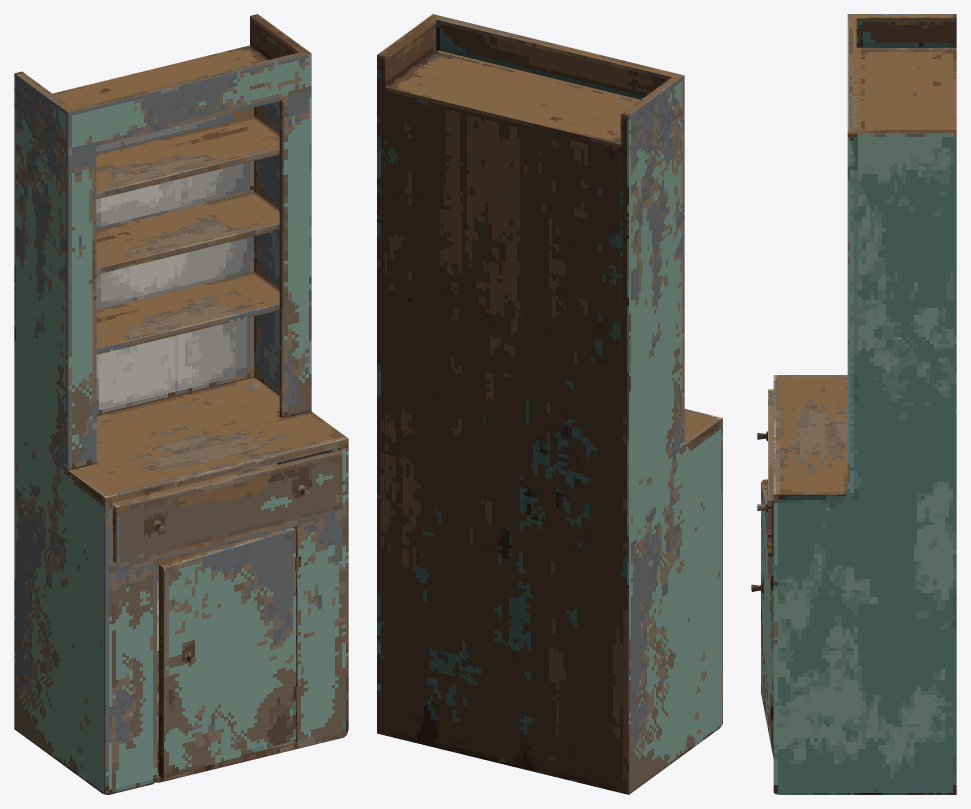
The model's file is wardrobe.glb.
The picture shows the model from 3 angles, left to right: view 1: azimuth 30°, elevation 25°; view 2: azimuth 150°, elevation 25°; view 3: azimuth 270°, elevation 25°; orthographic projection. The views are drawn at different scales.
Parts seen in each view (by area): view 1: mesh_q; view 2: mesh_q; view 3: mesh_q.
Boxes of the visible parts, x1,y1,x2,y2 form: mesh_q: (14, 14, 348, 794); mesh_q: (377, 14, 722, 794); mesh_q: (751, 14, 956, 794).
Size of the model in its own units: 0.6307 by 1.62 by 0.457.
1 material, 1 textured.
